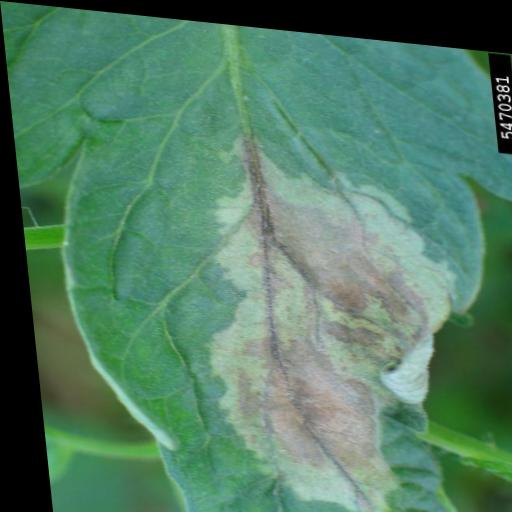Late Blight: (32, 3, 512, 512)
